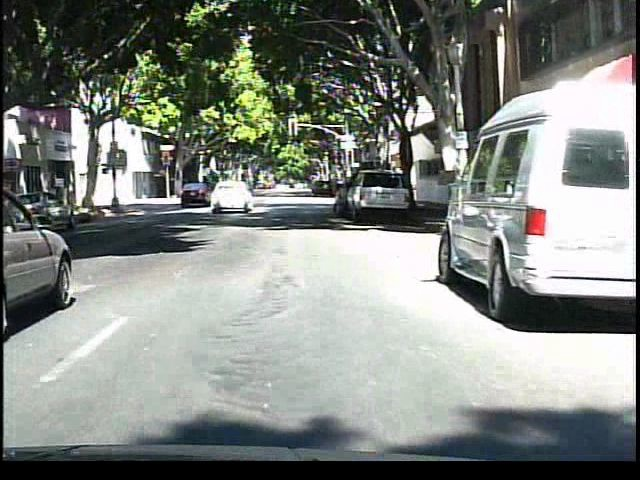person: (216, 171, 239, 208)
